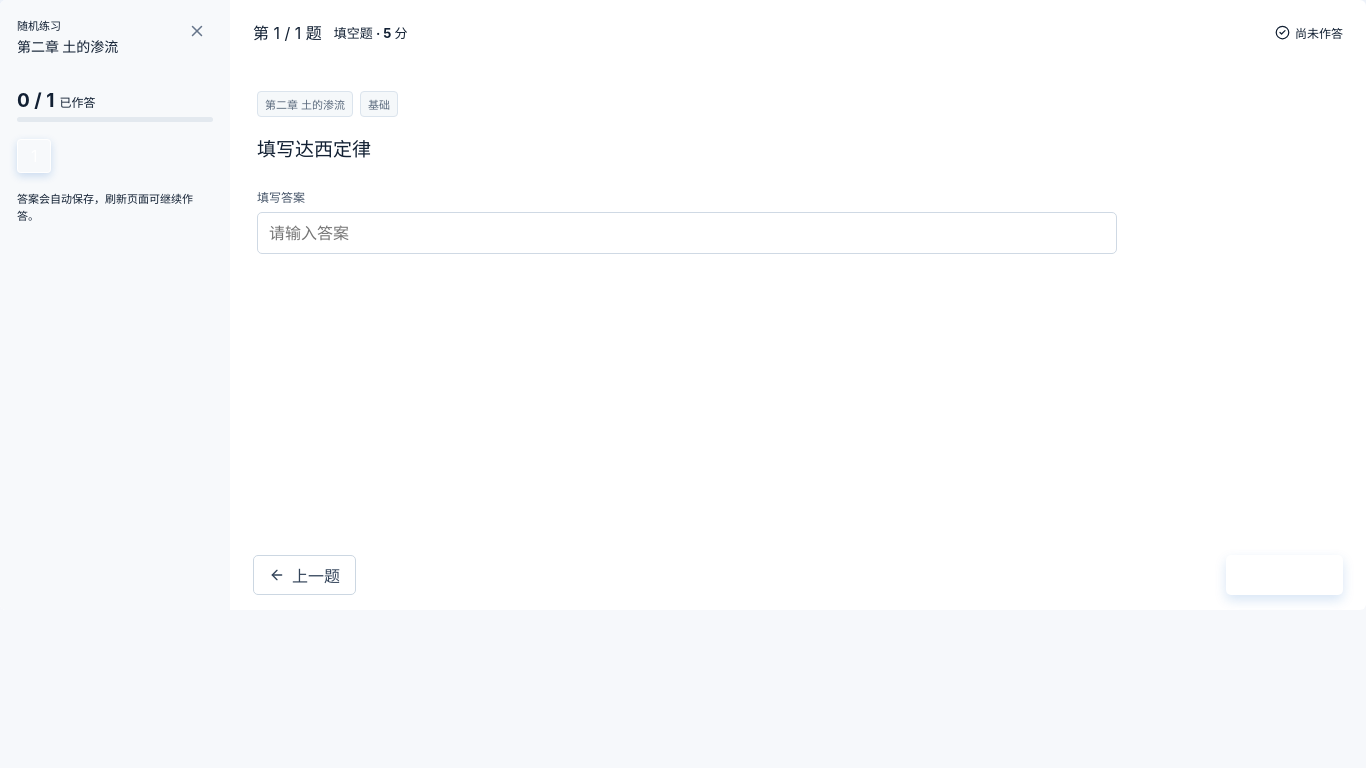
答案先写本地草稿再自动保存，失败后联网自动重试
This screenshot has width=1366, height=768.
Type "渗流速度与水力坡降成正比" into the field named "填写达西定律" at (687, 233), box [257, 212, 1117, 254]
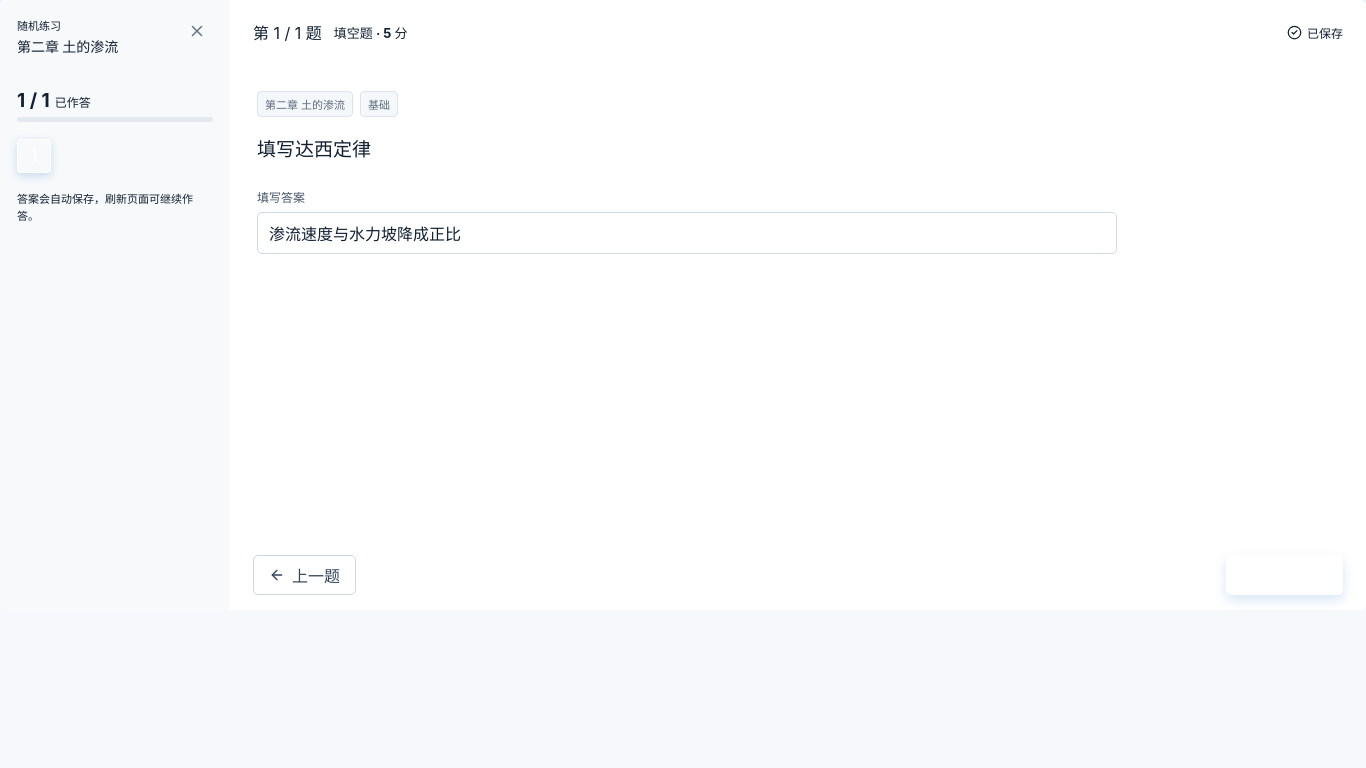
Check: the text "已保存" is shown, box [1287, 24, 1343, 40]
